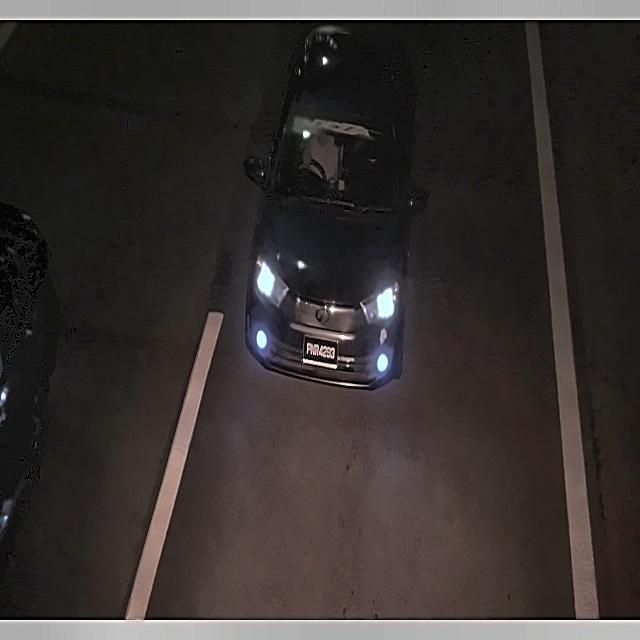car: (299, 332, 341, 372)
